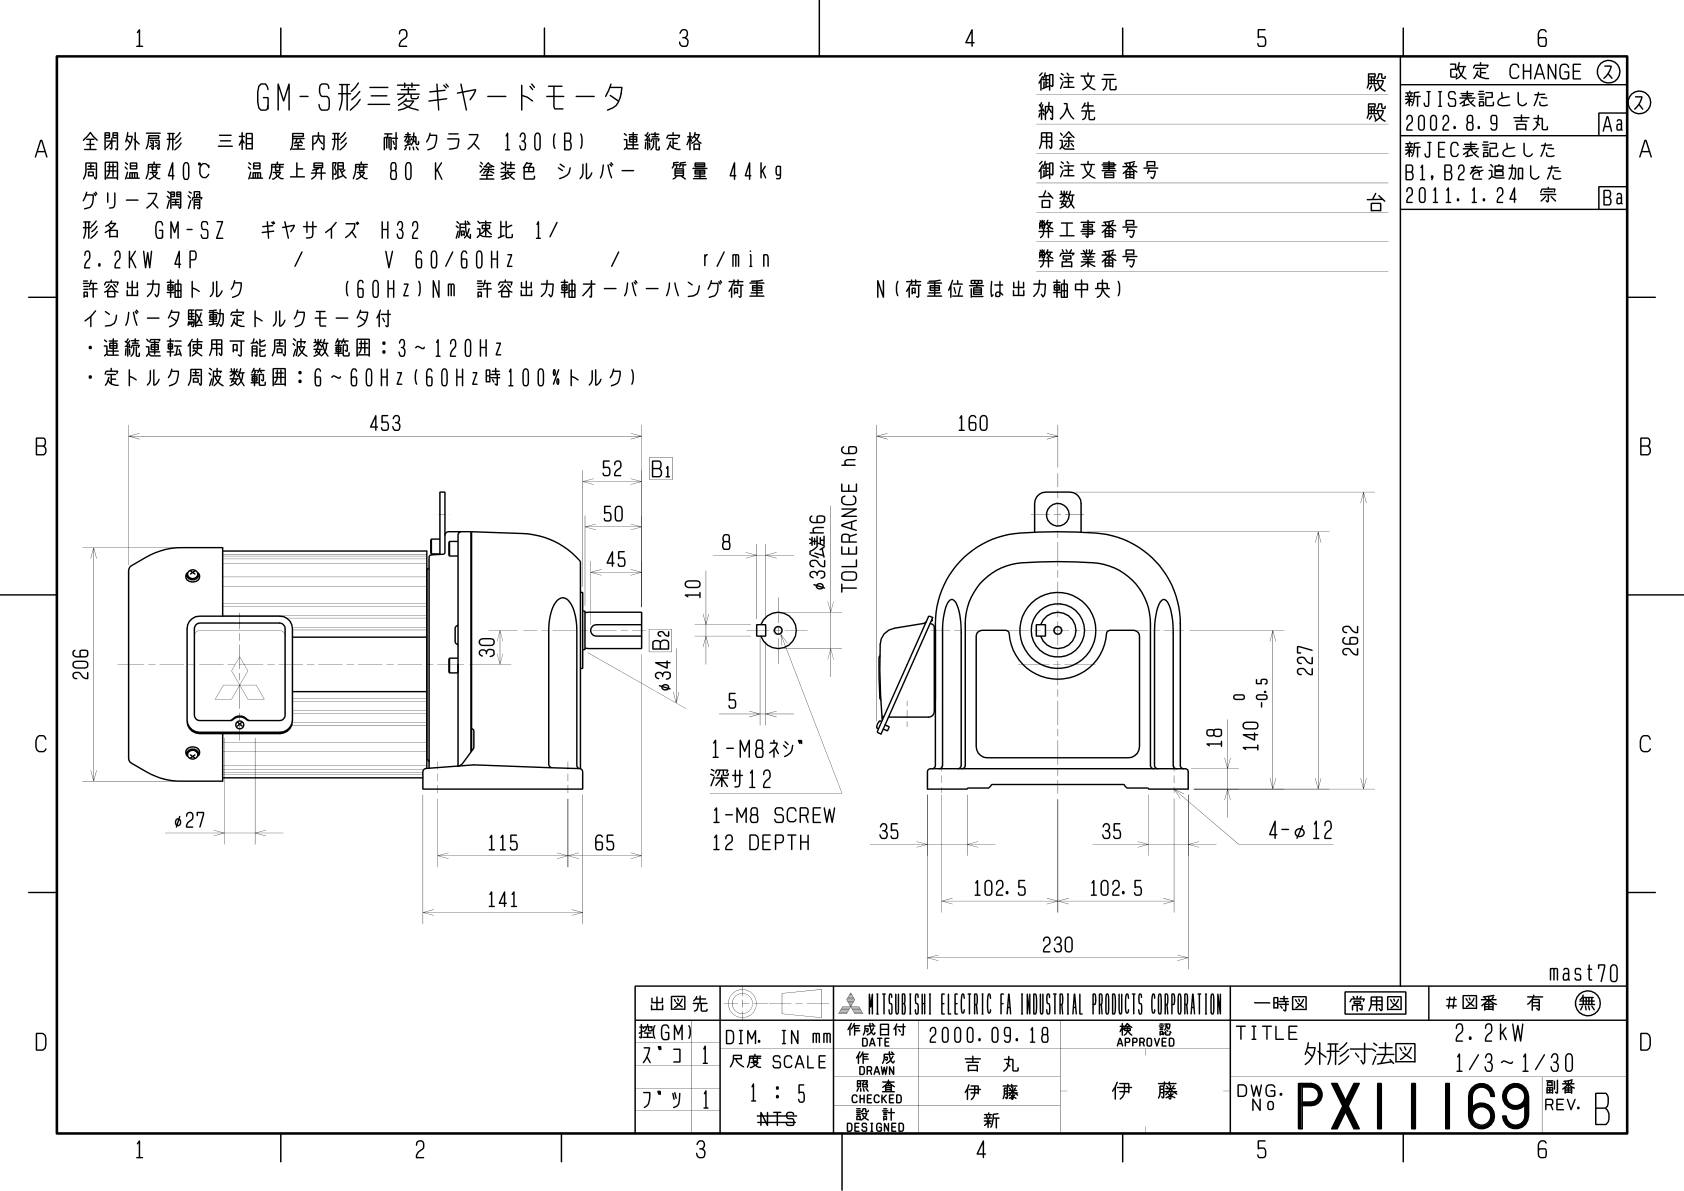GM_S_インバタ屋内＿三相_脚: (12, 6, 1684, 1191)
